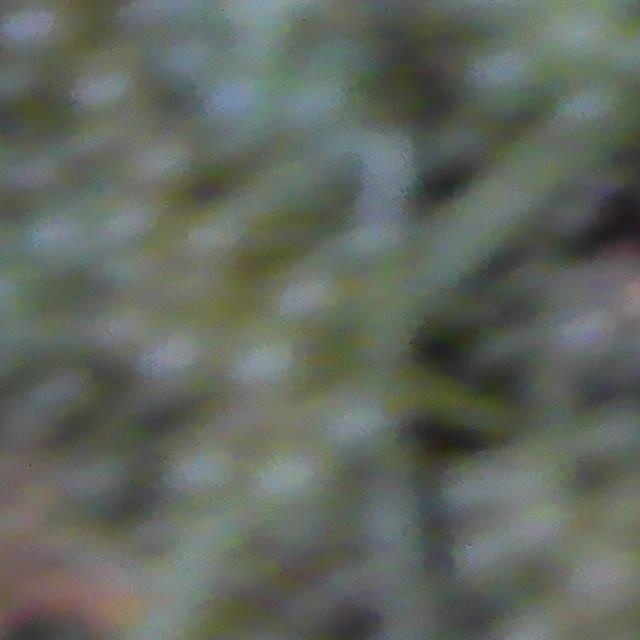SeaGrape: (462, 36, 544, 114), (251, 438, 327, 513), (540, 0, 615, 73), (231, 329, 303, 396), (168, 436, 237, 499)
